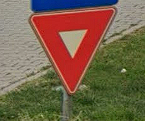cedeaza: (30, 11, 119, 98)
